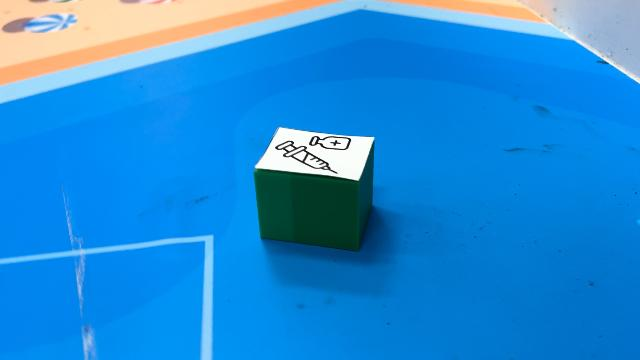syringe: (254, 127, 376, 257)
